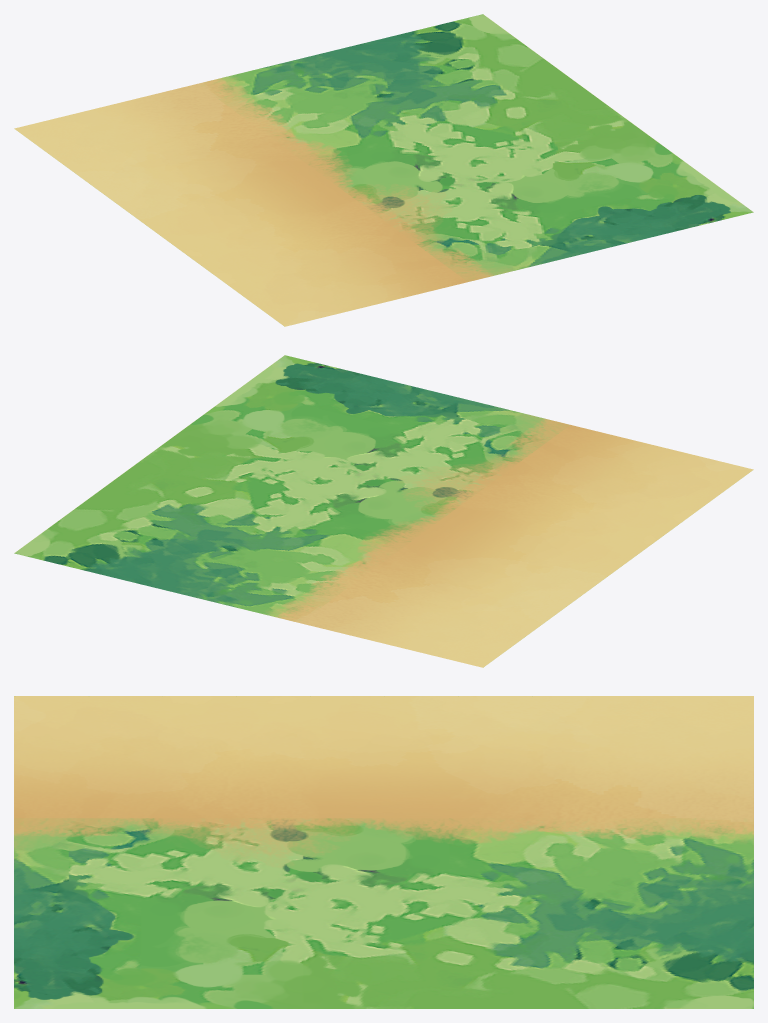
File: env_tiles_mesh_06.fbx
3 views of the same model, one above another, from view 1: azimuth 30°, elevation 25°; view 2: azimuth 150°, elevation 25°; view 3: azimuth 270°, elevation 25° (orthographic). The views are drawn at different scales.
Visible parts, largest first — view 1: T6; view 2: T6; view 3: T6.
Boxes of the visible parts, left/top/right/bottom form: T6: left=14, top=14, right=753, bottom=326; T6: left=14, top=355, right=753, bottom=667; T6: left=14, top=696, right=753, bottom=1008.
Size of the model in its own units: 1000 by 0 by 1000.
